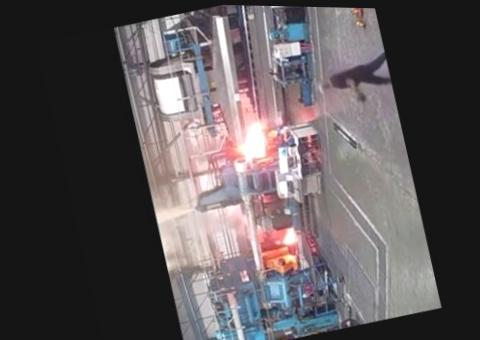fire: (167, 34, 338, 294)
